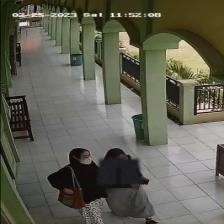Cadar_Niqab: (96, 145, 141, 184)
